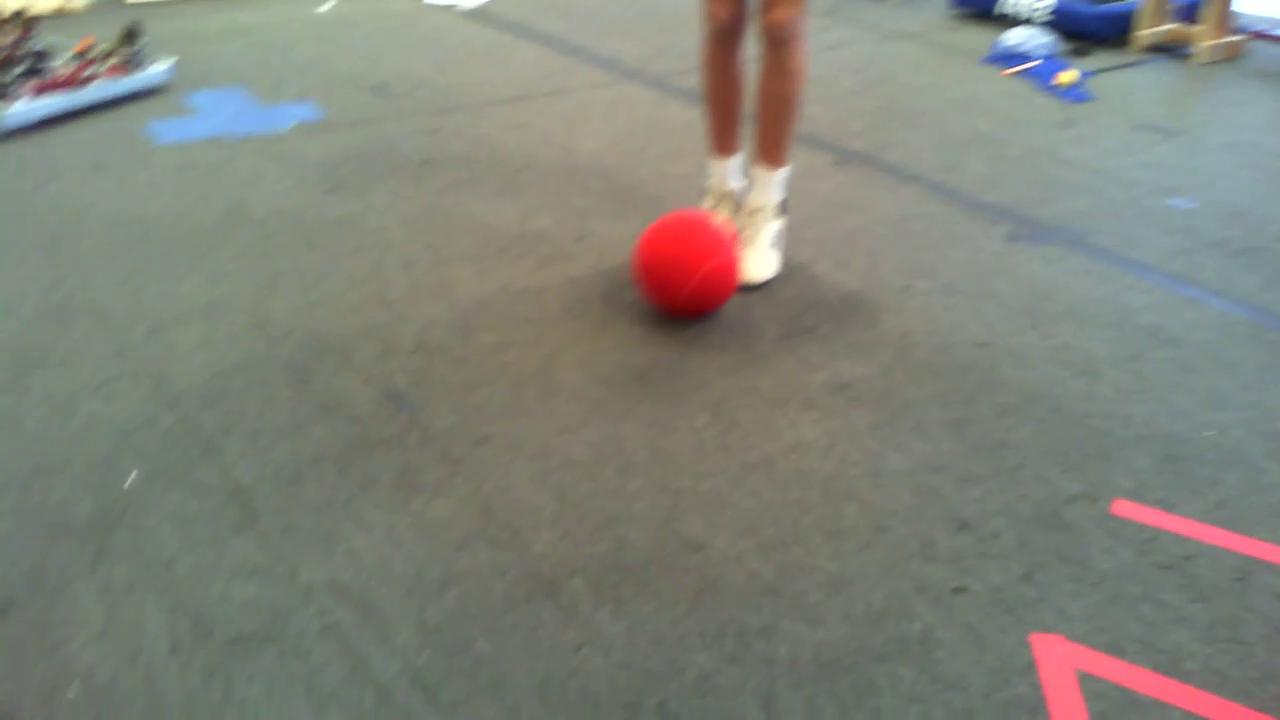Red_Ball: (610, 205, 766, 324)
